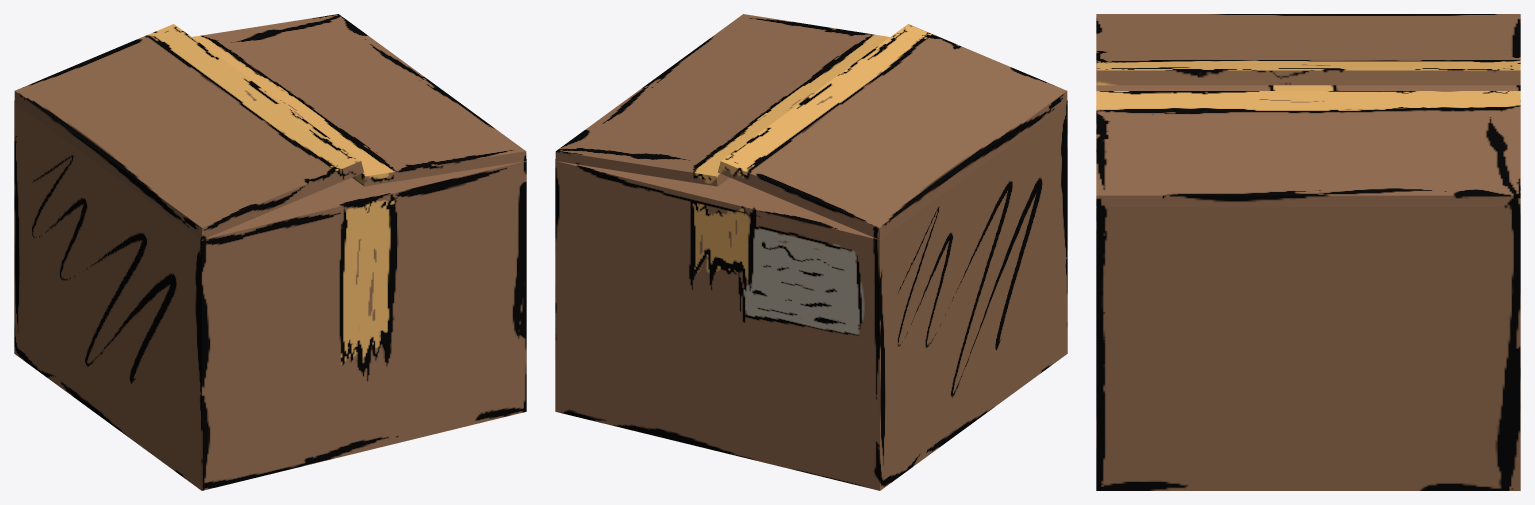
The model's file is Package.fbx.
The picture shows the model from 3 angles, left to right: view 1: azimuth 30°, elevation 25°; view 2: azimuth 150°, elevation 25°; view 3: azimuth 270°, elevation 25°; orthographic projection. The views are drawn at different scales.
Parts seen in each view (by area): view 1: Package; view 2: Package; view 3: Package.
Boxes of the visible parts, x1,y1,x2,y2 form: Package: [14, 14, 526, 490]; Package: [555, 14, 1067, 490]; Package: [1096, 14, 1520, 490].
Bounding box in the file's own units: 54.68 × 54.68 × 46.83.
Materials: 1 (1 with a texture image).
